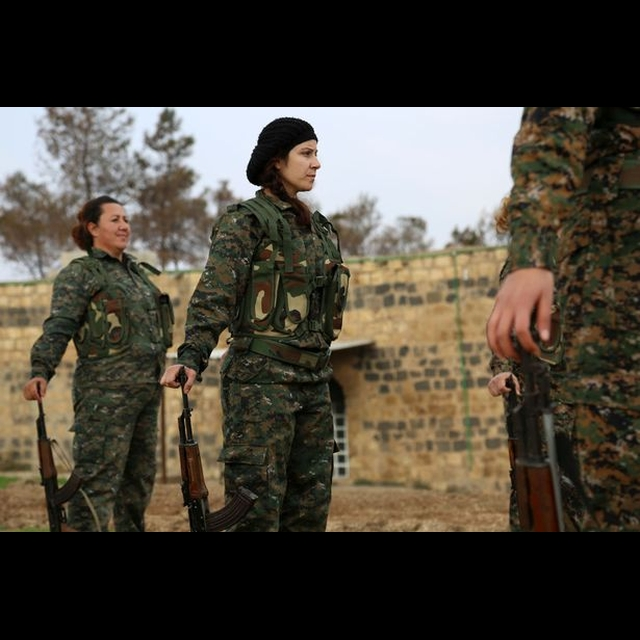AK47: (164, 361, 259, 533), (20, 376, 90, 532)
